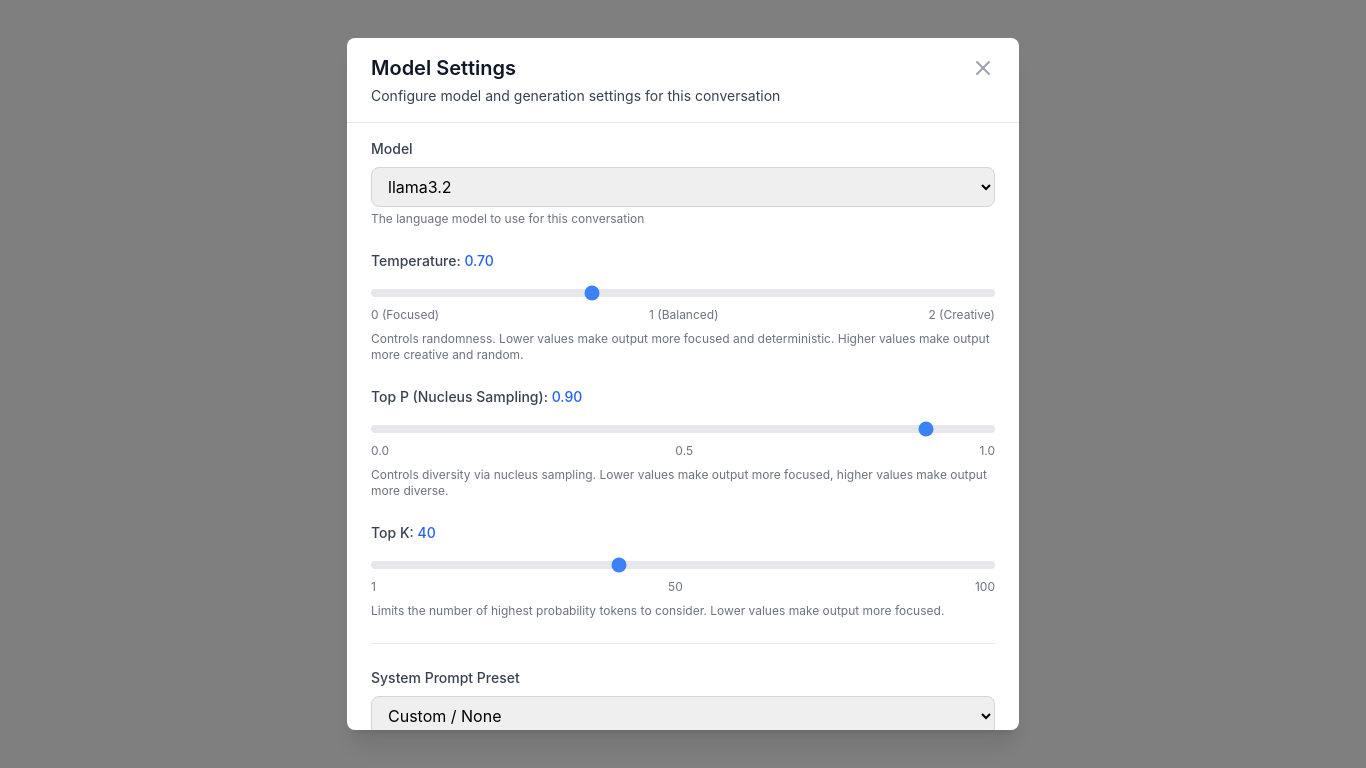
Test case: ModelSettings › Top P Setting › should update top_p on slider change
The image size is (1366, 768).
Set the slider labelled "Top P (Nucleus Sampling): 0.90" to "0.5": [683, 429] box left=371, top=425, right=995, bottom=433
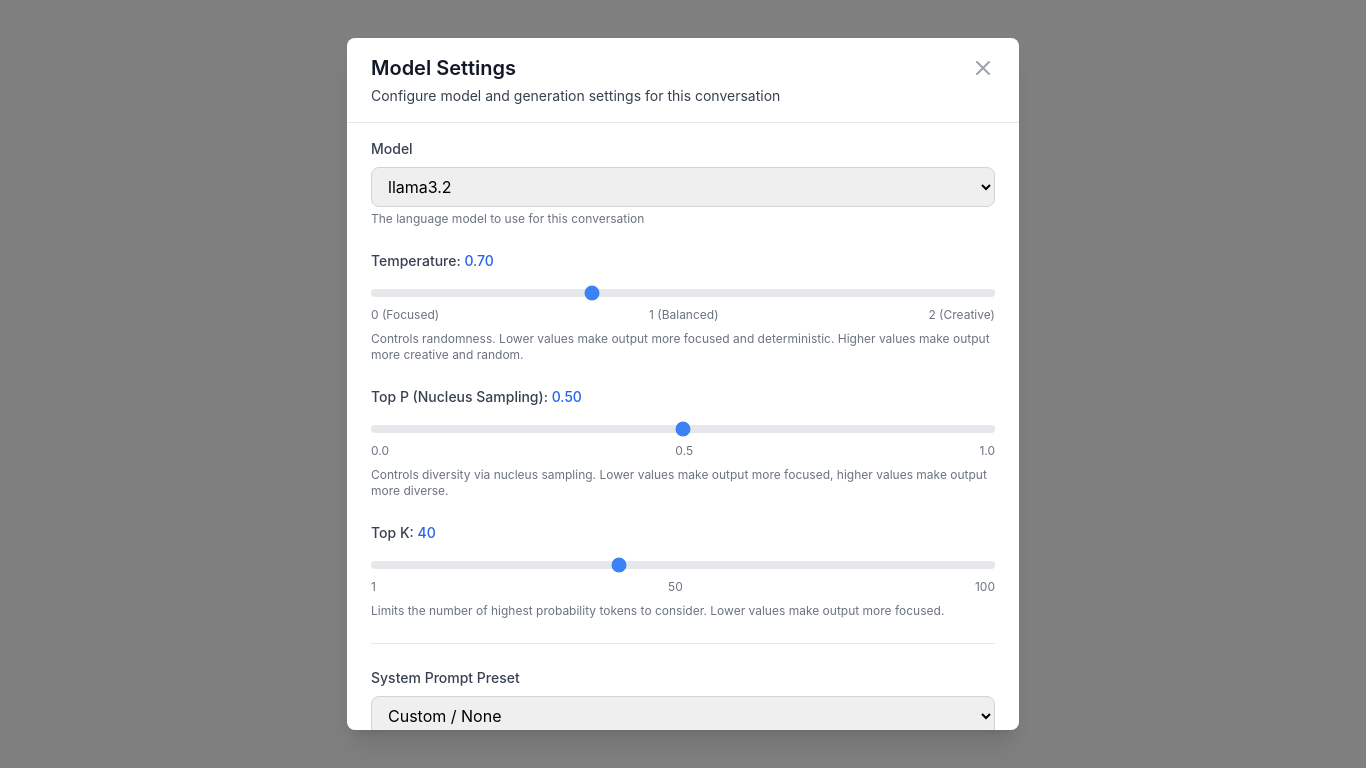
Now the text "0.50" is shown, box left=552, top=388, right=582, bottom=405
